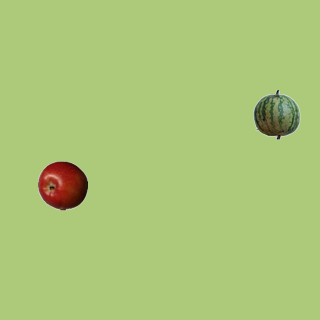Apple Braeburn: (37, 160, 87, 210)
Watermelon: (251, 89, 301, 139)
